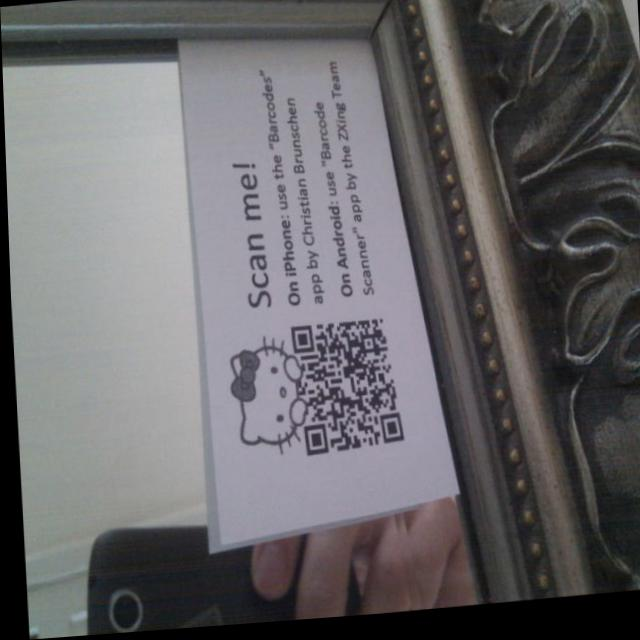qrcode: (289, 323, 402, 462)
